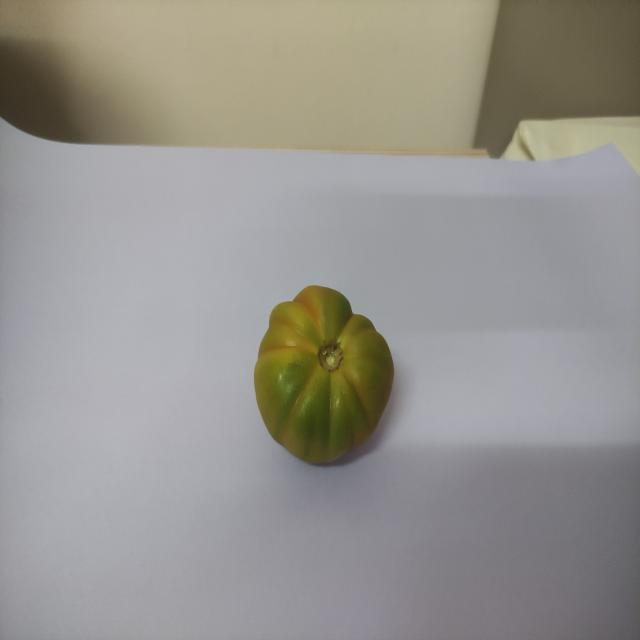unripe tomato: (240, 277, 417, 468)
